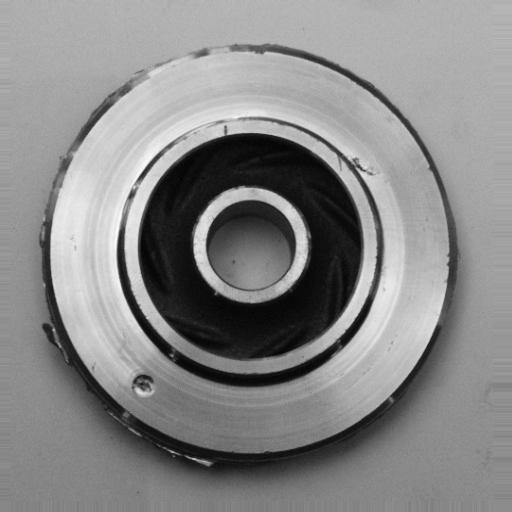casting_with_burr: (30, 40, 463, 472)
crack: (322, 141, 393, 192)
pit: (124, 366, 165, 407)
scratch: (169, 105, 285, 141), (114, 174, 149, 220)
